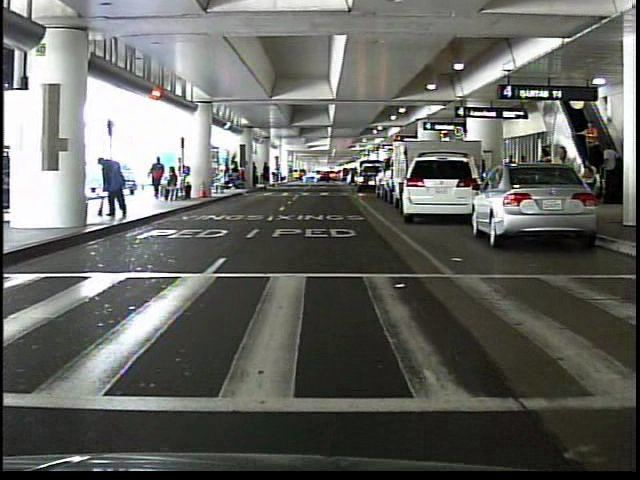person: (97, 152, 132, 222), (578, 118, 604, 169), (601, 141, 621, 193), (272, 162, 285, 189)
